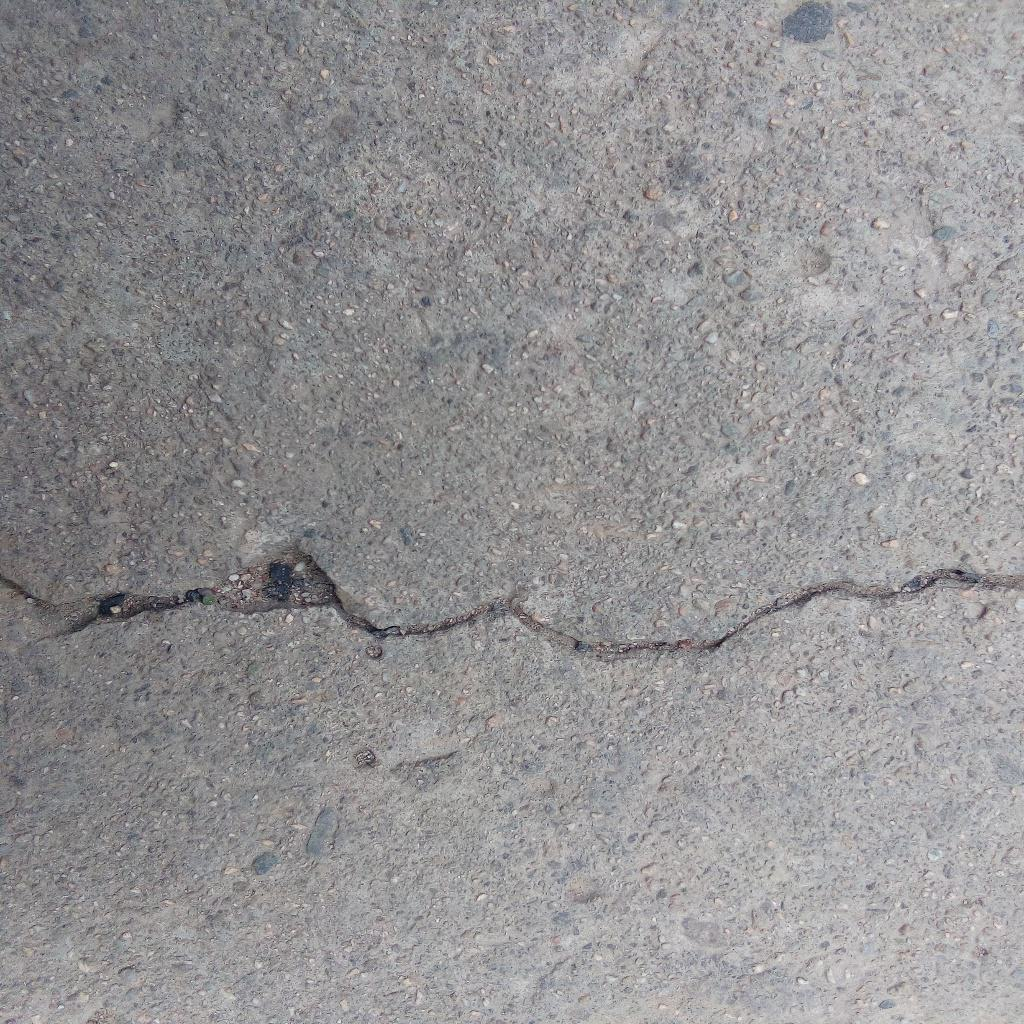Crack: (1, 542, 1024, 664)
